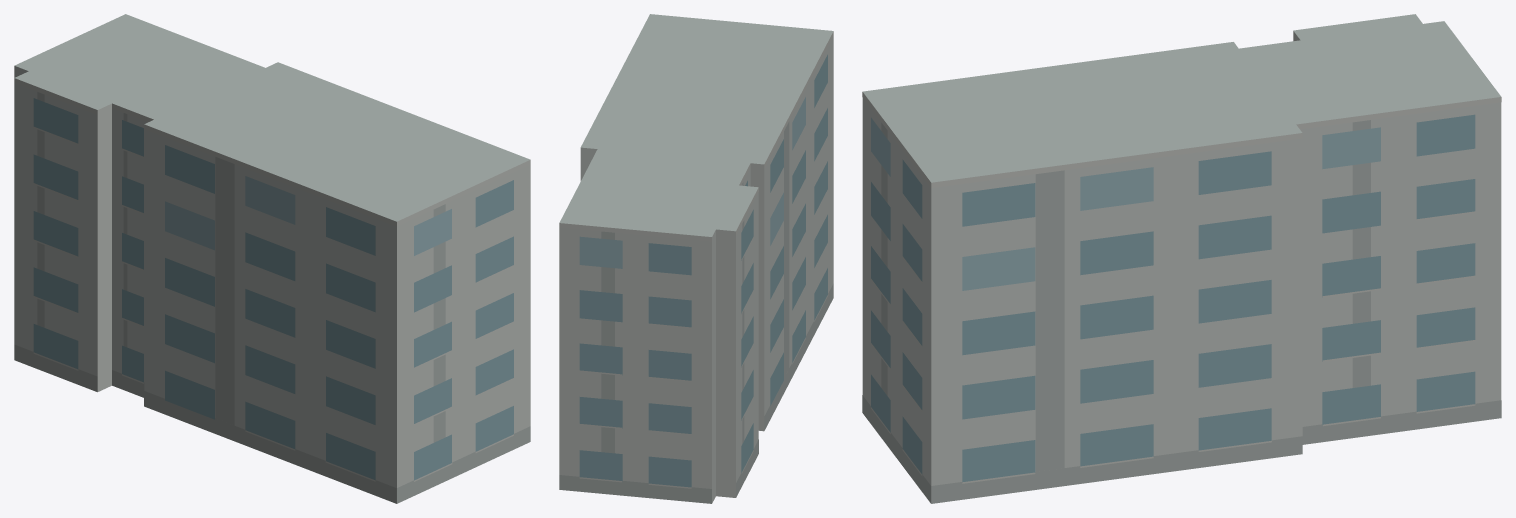
Rendered from survey-upis-32954152.glb.
The picture shows the model from 3 angles, left to right: view 1: azimuth 30°, elevation 25°; view 2: azimuth 150°, elevation 25°; view 3: azimuth 270°, elevation 25°; orthographic projection. The views are drawn at different scales.
Visible parts, largest first — view 1: survey-upis-32954152.tmp; view 2: survey-upis-32954152.tmp; view 3: survey-upis-32954152.tmp.
Part boxes in pixels (x1,y1,x2,y2): survey-upis-32954152.tmp: (14, 14, 530, 503); survey-upis-32954152.tmp: (559, 14, 833, 503); survey-upis-32954152.tmp: (862, 14, 1501, 503).
Size of the model in its own units: 15.89 by 14.1 by 25.43.
